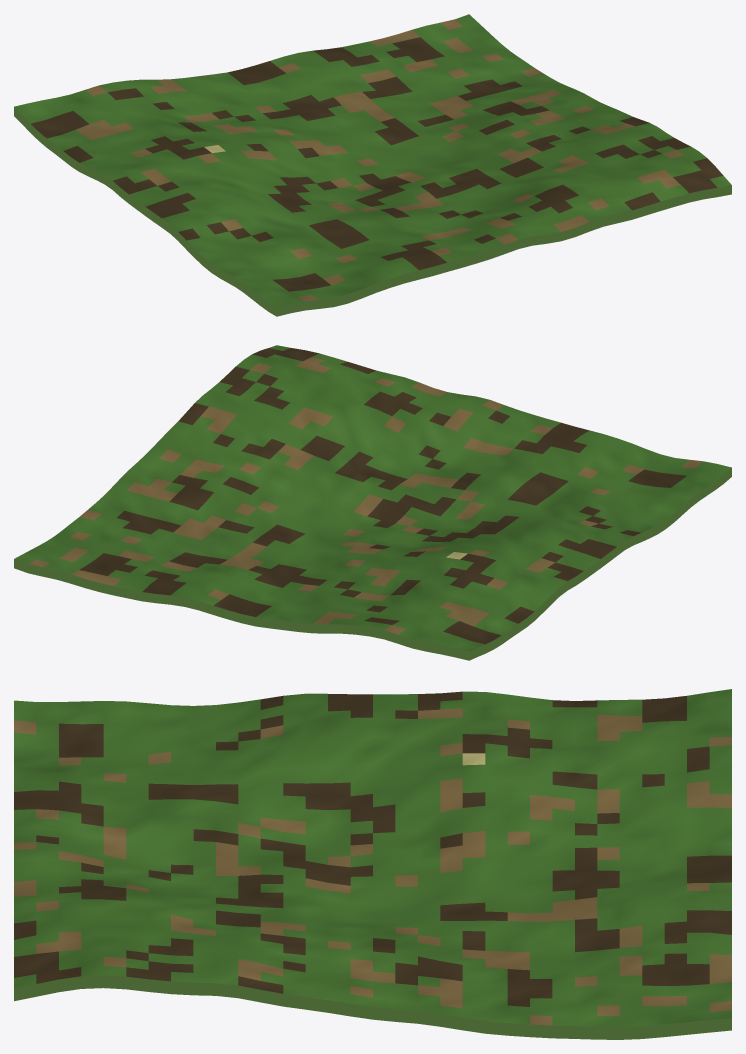
Rendered from chunk_0_7_lod1.glb.
3 views of the same model, one above another, from view 1: azimuth 30°, elevation 25°; view 2: azimuth 150°, elevation 25°; view 3: azimuth 270°, elevation 25° (orthographic). The views are drawn at different scales.
Parts seen in each view (by area): view 1: Surface_Grass, Surface_Mud, Surface_Dirt, Skirt; view 2: Surface_Grass, Surface_Mud, Surface_Dirt, Skirt; view 3: Surface_Grass, Surface_Mud, Surface_Dirt, Skirt.
Boxes of the visible parts, x1,y1,x2,y2 form: Surface_Grass: (14,14,731,307); Surface_Mud: (31,37,723,291); Surface_Dirt: (75,19,684,301); Skirt: (14,107,731,316); Surface_Grass: (14,345,731,651); Surface_Mud: (79,348,686,644); Surface_Dirt: (29,357,702,634); Skirt: (14,468,731,660); Surface_Grass: (14,689,731,1027); Surface_Mud: (14,691,731,1006); Surface_Dirt: (14,708,731,1025); Skirt: (14,975,731,1039).
Bounding box in the file's own units: 256 × 25.44 × 256.
